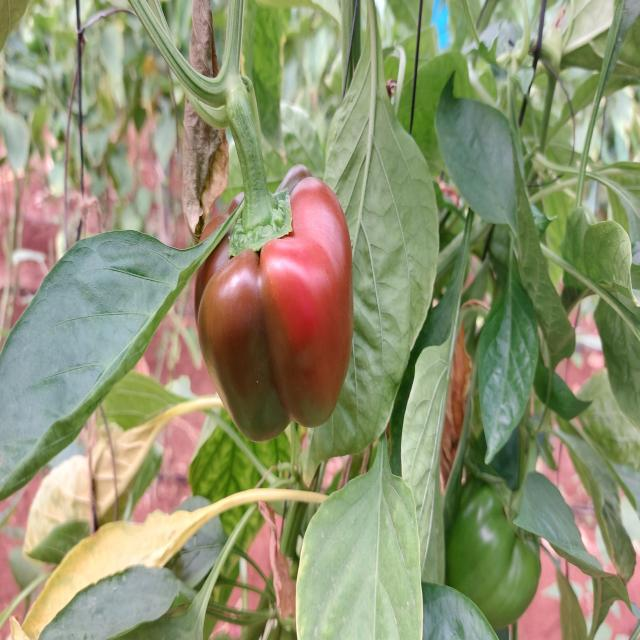BrownishRed--Can-be-Harvested: (198, 189, 361, 447)
